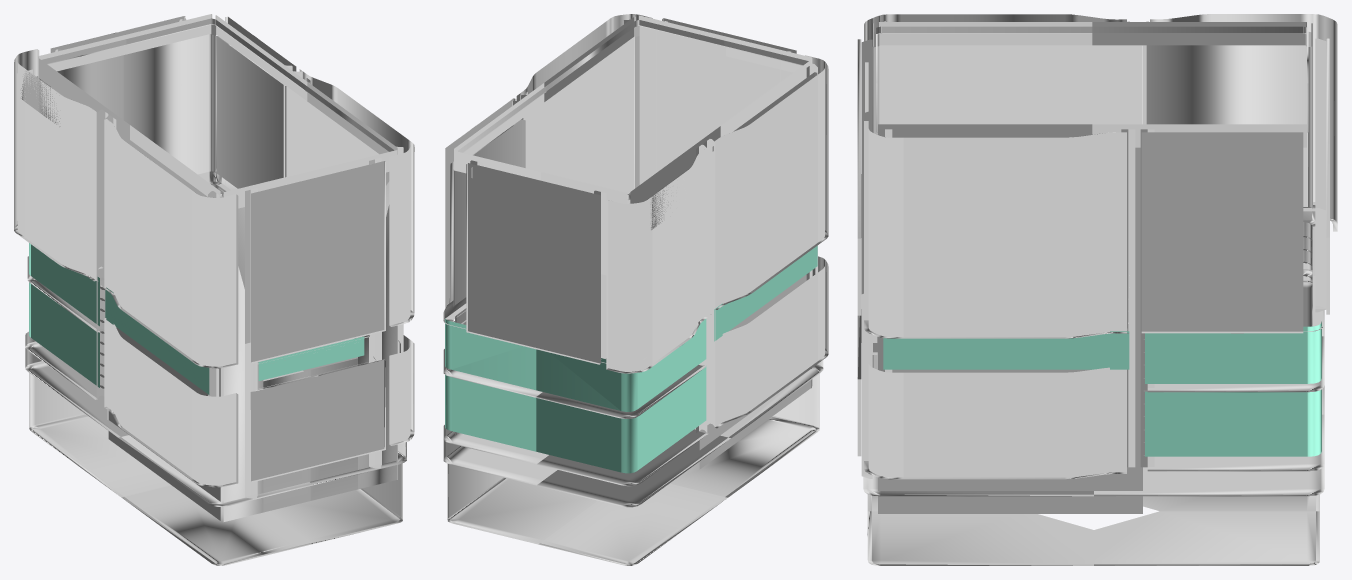
Rendered from building_250m_001_a.glb.
3 views of the same model, side by side, from view 1: azimuth 30°, elevation 25°; view 2: azimuth 150°, elevation 25°; view 3: azimuth 270°, elevation 25° (orthographic). The views are drawn at different scales.
Size of the model in its own units: 167 by 271 by 269.
